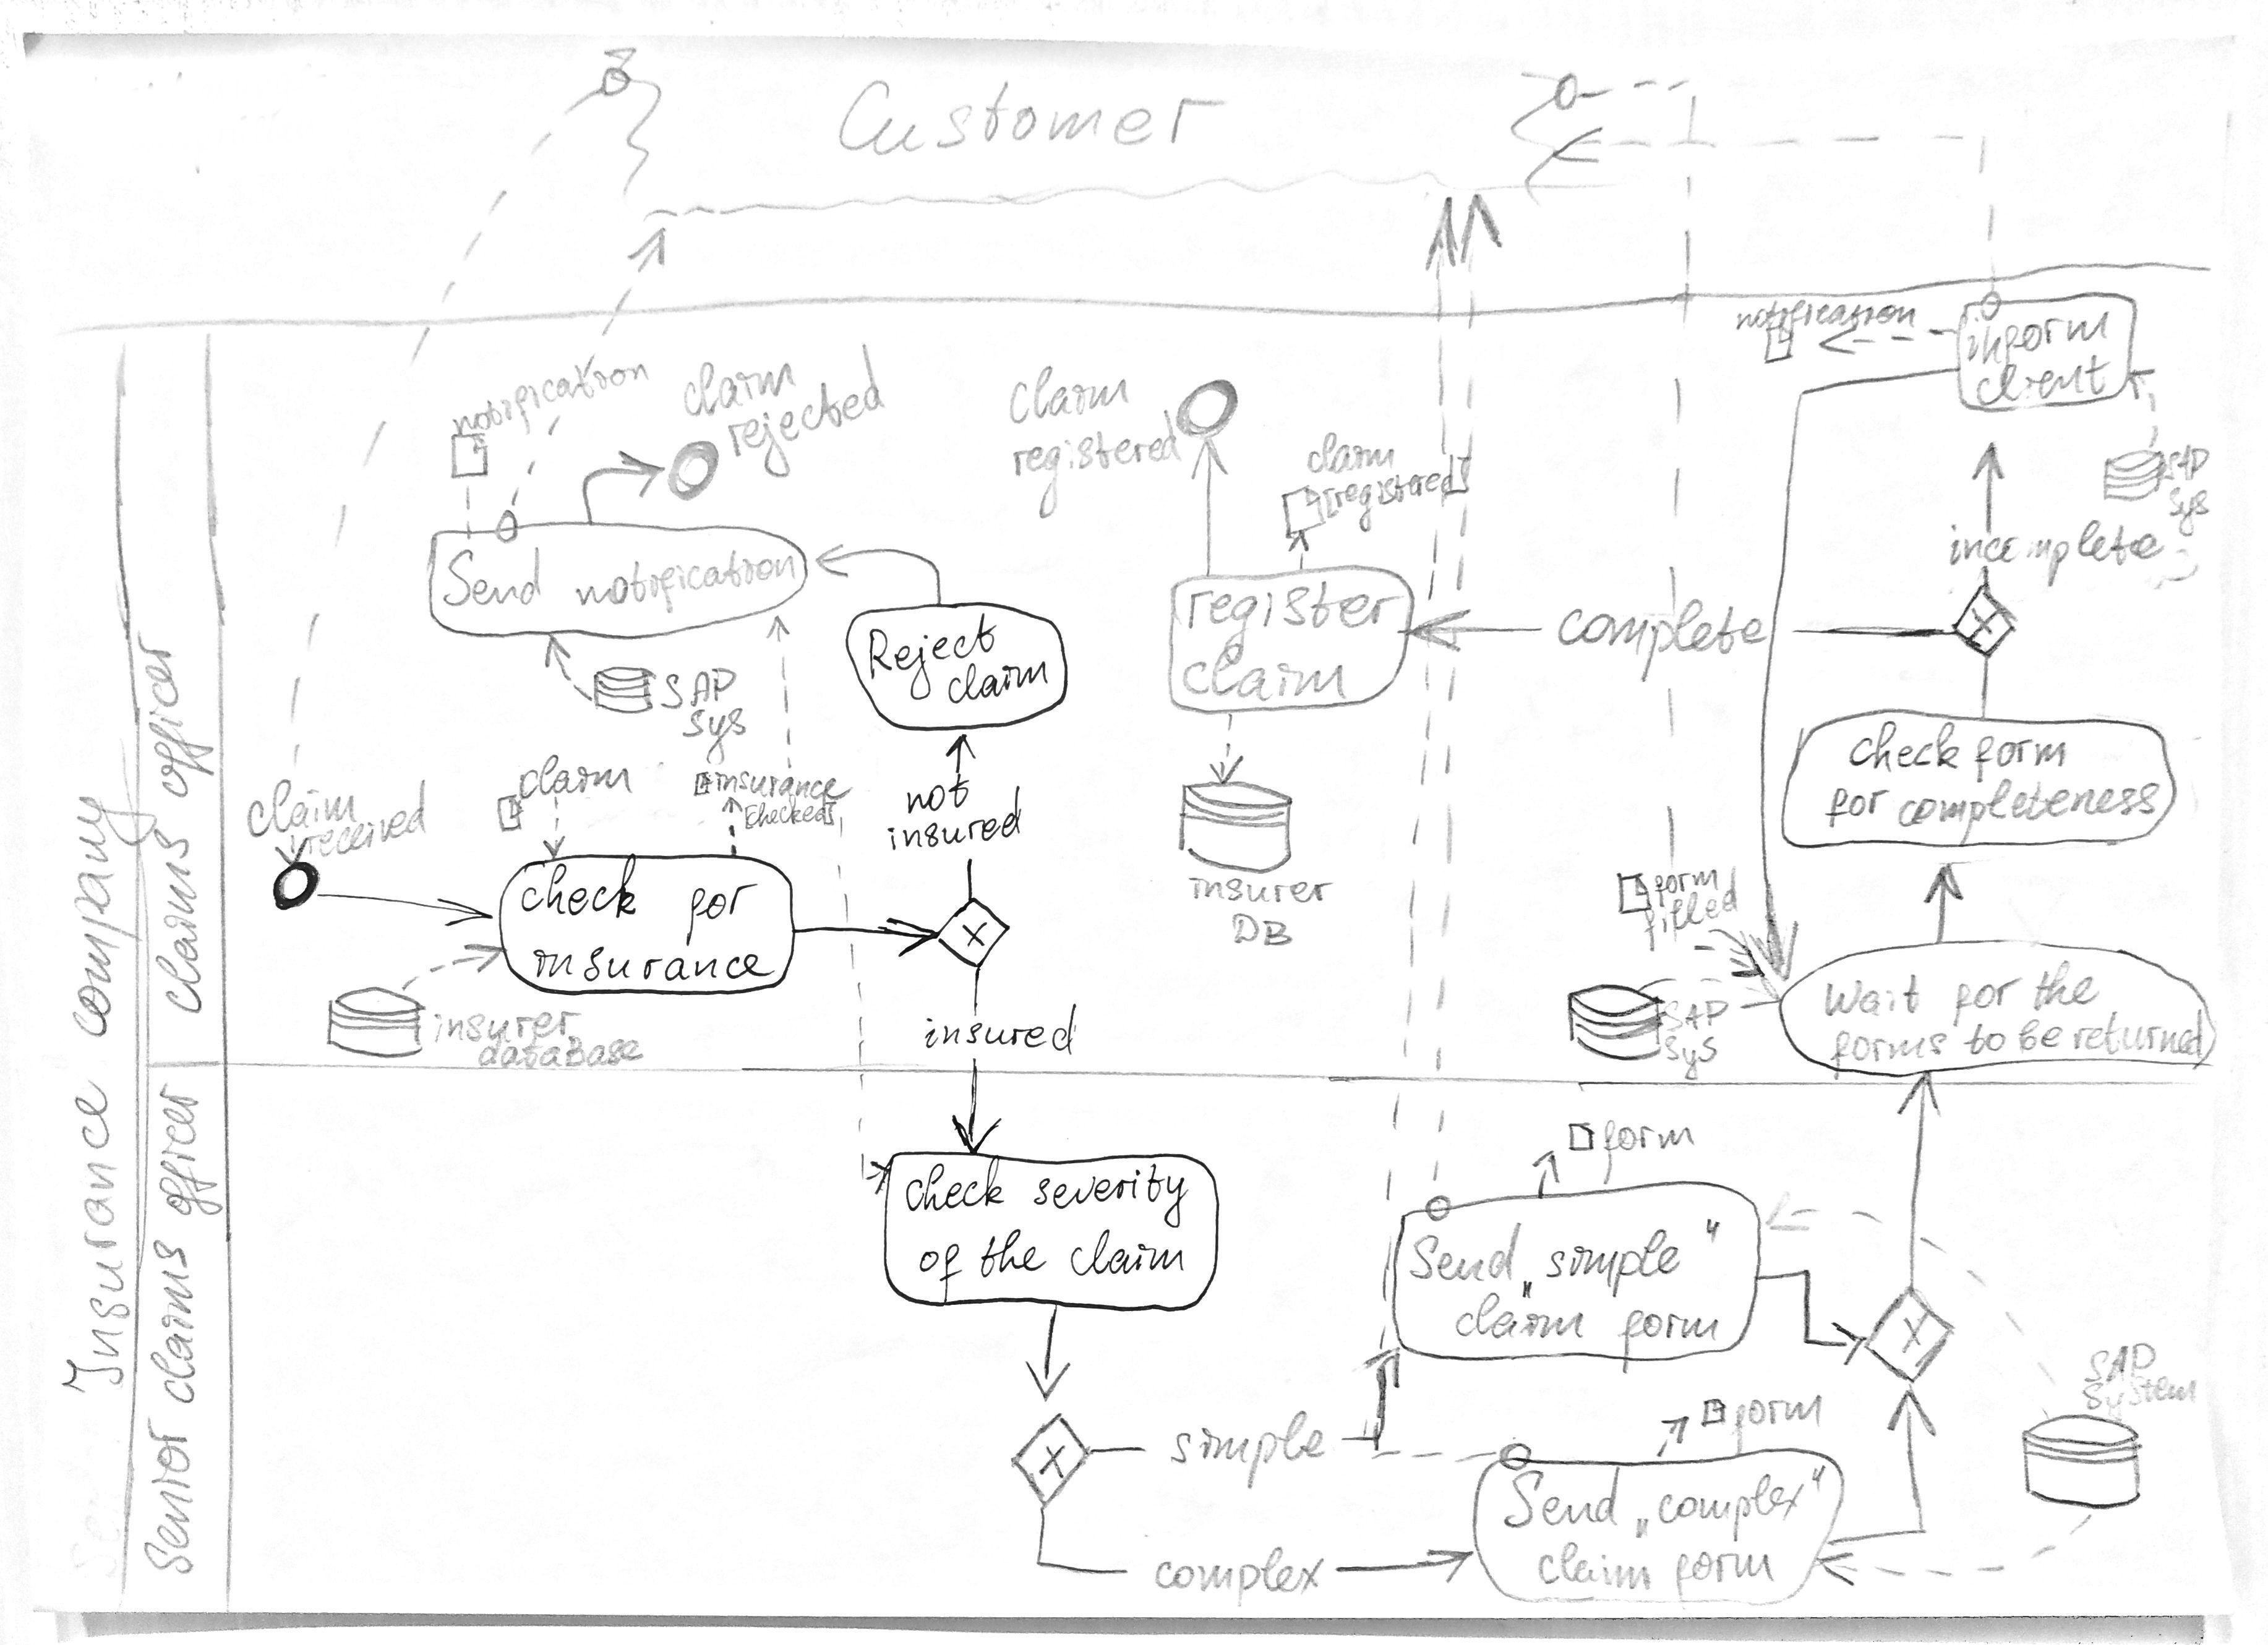Customer: (829, 76, 1224, 159)
DB: (1234, 911, 1289, 948)
Insurance: (63, 1073, 129, 1393)
Reject: (854, 631, 995, 680)
SAP: (659, 666, 740, 712), (2087, 1346, 2157, 1383), (2161, 442, 2212, 484), (1662, 999, 1722, 1030)
Send: (1504, 1474, 1620, 1529), (1410, 1226, 1516, 1282), (440, 553, 546, 604)
Senior: (137, 1416, 202, 1573)
Sys: (683, 704, 748, 741), (2168, 483, 2212, 518), (1662, 1036, 1717, 1062)
System: (2085, 1377, 2198, 1413)
Vicceived: (299, 826, 435, 861)
Wait: (1821, 970, 1925, 1022)
[checked]: (740, 798, 843, 831)
[registered]: (1314, 481, 1472, 527)
be: (2018, 1020, 2064, 1050)
check: (516, 877, 648, 925), (1845, 722, 1960, 777), (905, 1168, 1009, 1208)
claim: (1182, 646, 1349, 704), (986, 375, 1132, 433), (667, 377, 798, 430), (1532, 1543, 1657, 1592), (239, 782, 359, 831), (1456, 1300, 1588, 1340), (1067, 1231, 1187, 1273), (518, 756, 629, 798), (937, 669, 1048, 706), (1307, 432, 1395, 477)
claims: (143, 1240, 199, 1409), (153, 830, 195, 1014)
client: (1965, 358, 2118, 403)
company: (63, 794, 121, 1048)
complete: (1551, 599, 1766, 662)
completeness: (1888, 778, 2164, 835)
complex: (1636, 1467, 1824, 1534), (1148, 1550, 1326, 1597)
database: (481, 1037, 643, 1073)
filled: (1632, 907, 1741, 944)
for: (1948, 970, 2018, 1020), (678, 882, 752, 928), (1821, 784, 1882, 831)
form: (1601, 1117, 1697, 1184), (1733, 1393, 1819, 1457), (1972, 733, 2069, 771), (1675, 1550, 1775, 1585), (1624, 1307, 1719, 1344), (1653, 867, 1717, 902)
forms: (1833, 1029, 1946, 1062)
incomplete: (1944, 527, 2164, 567)
inform: (1956, 314, 2115, 358)
insurance: (526, 946, 771, 985), (710, 768, 854, 803)
insured: (917, 1013, 1081, 1055), (884, 807, 1025, 854)
insurer: (426, 1009, 579, 1043), (1183, 874, 1333, 907)
not: (907, 777, 970, 812)
notification: (571, 567, 796, 609), (447, 400, 650, 435), (1736, 299, 1926, 335)
of: (917, 1245, 963, 1287)
officer: (137, 627, 201, 791), (151, 1083, 208, 1226)
register: (1182, 583, 1409, 634)
registered: (1000, 437, 1185, 484)
rejected: (711, 412, 887, 468)
returned: (2074, 1018, 2203, 1057)
severity: (1034, 1171, 1189, 1206)
simple: (1521, 1213, 1720, 1298), (1166, 1411, 1329, 1471)
the: (2023, 965, 2102, 1016), (981, 1233, 1048, 1273)
to: (1967, 1022, 2006, 1057)
